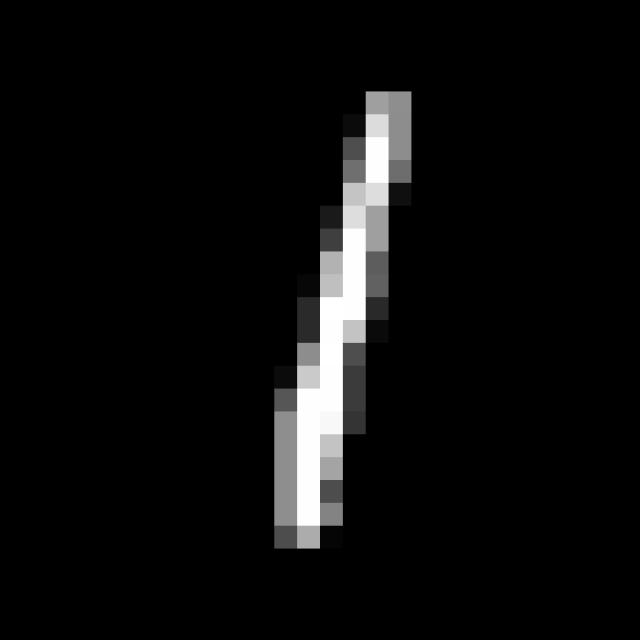one -1-: (249, 75, 439, 574)
